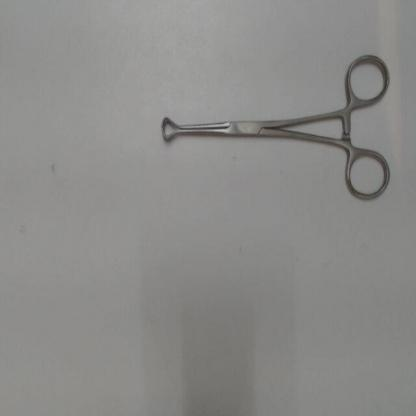Babcock Tissue Forceps: (155, 48, 398, 207)
